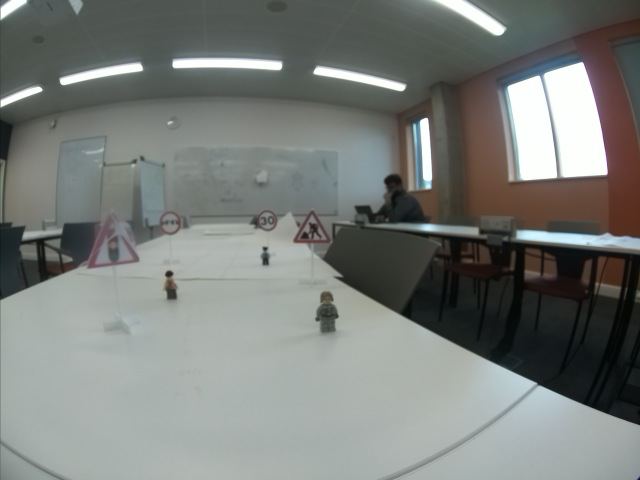30mph: (256, 210, 279, 231)
6ft6: (159, 211, 181, 234)
Lego Man: (315, 291, 339, 333), (162, 270, 181, 301), (260, 245, 271, 266)
Roadworks: (293, 208, 334, 243)
Traffic lights: (87, 209, 139, 268)
